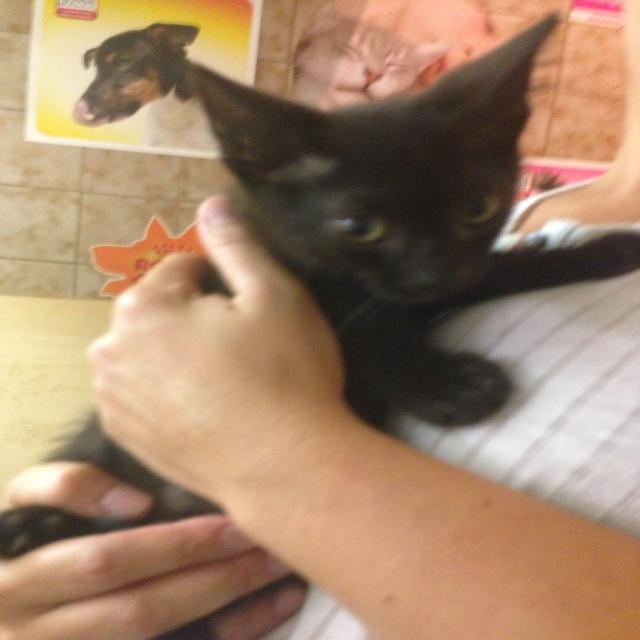Cat: (0, 10, 638, 639), (290, 16, 461, 110)
